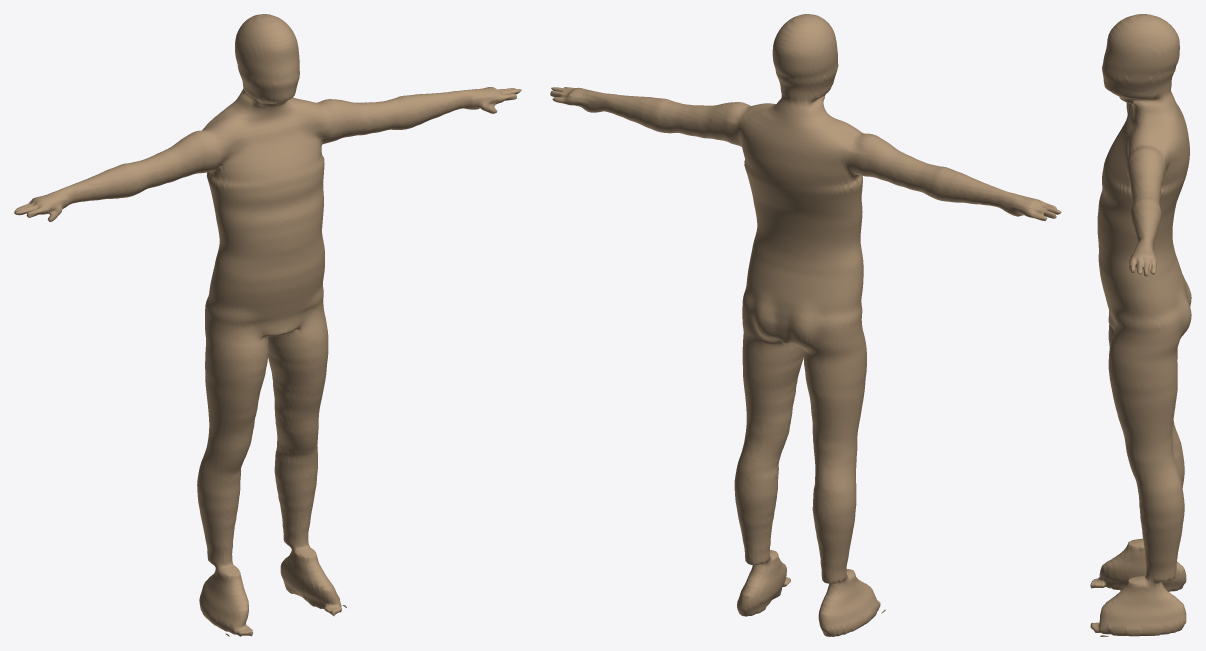
Rendered from male-mannequin.glb.
3 views of the same model, side by side, from view 1: azimuth 30°, elevation 25°; view 2: azimuth 150°, elevation 25°; view 3: azimuth 270°, elevation 25° (orthographic).
Visible parts, largest first — view 1: ContinuousReferenceBody; view 2: ContinuousReferenceBody; view 3: ContinuousReferenceBody.
Boxes of the visible parts, x1=… form: ContinuousReferenceBody: x1=14, y1=14, x2=521, y2=636; ContinuousReferenceBody: x1=550, y1=14, x2=1061, y2=636; ContinuousReferenceBody: x1=1090, y1=14, x2=1191, y2=636.
Size of the model in its own units: 1.57 by 1.75 by 0.2707.
